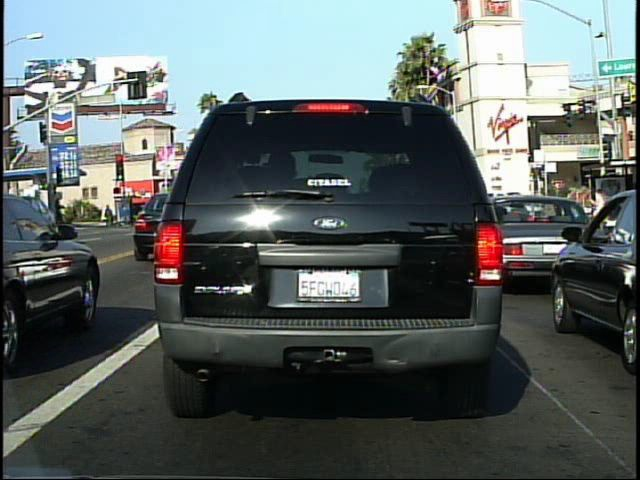person: (588, 184, 609, 243), (100, 199, 116, 232)
